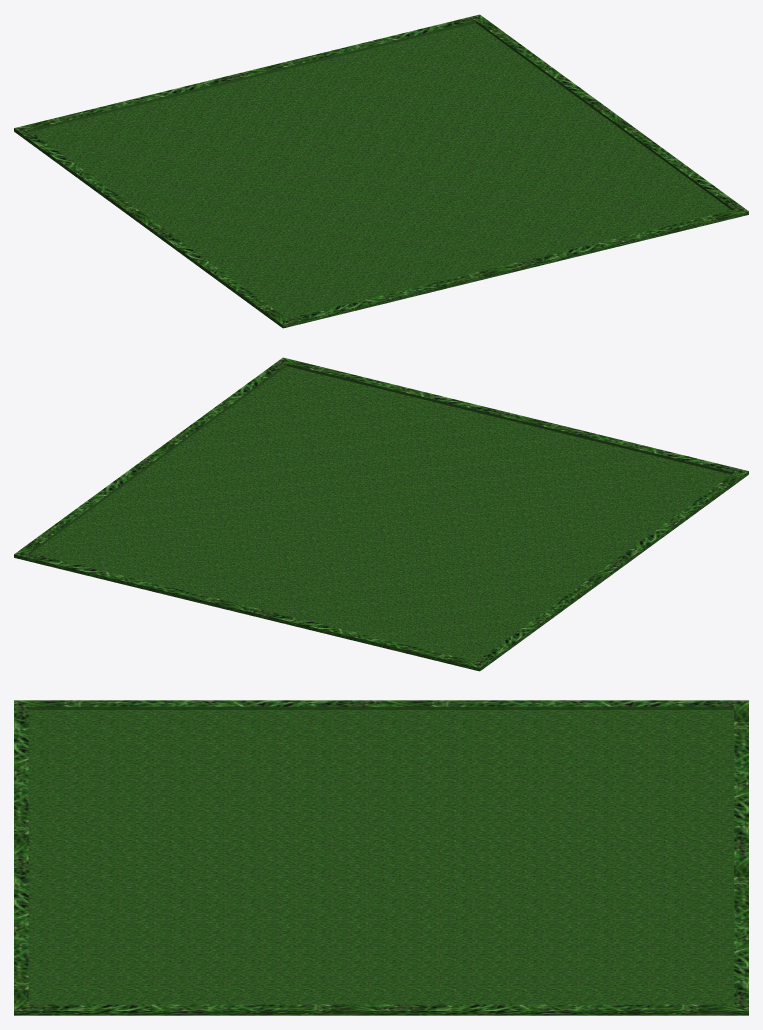
Rendered from flat_single.gltf.
3 renders of one model, top to bottom at view 1: azimuth 30°, elevation 25°; view 2: azimuth 150°, elevation 25°; view 3: azimuth 270°, elevation 25°, orthographic. The views are drawn at different scales.
Parts seen in each view (by area): view 1: Cube.001; view 2: Cube.001; view 3: Cube.001.
Boxes of the visible parts, x1,y1,x2,y2 form: Cube.001: [14, 14, 748, 328]; Cube.001: [14, 357, 748, 671]; Cube.001: [14, 700, 748, 1015].
Bounding box in the file's own units: 500 × 3.5 × 500.
Materials: 1 (1 with a texture image).
